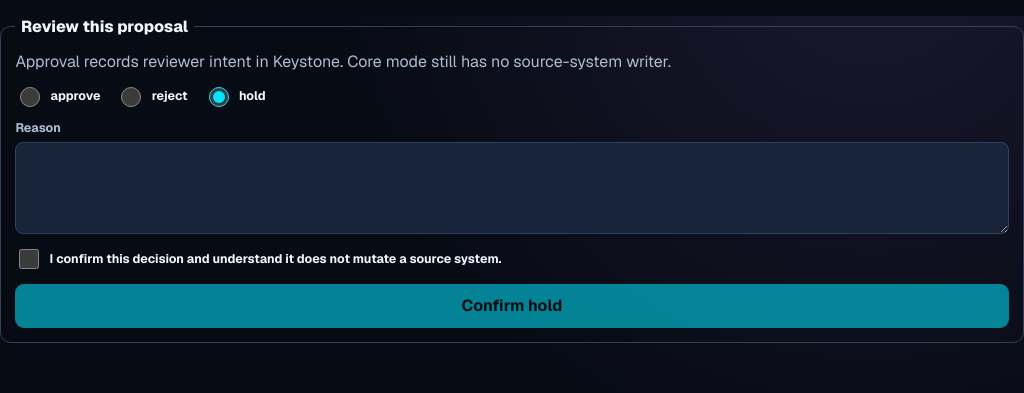
Test: pending proposal decision › shows a safe fallback for a non-Error rejection
Type "Evidence verified" into the text box labelled "Reason" at x=512, y=188, box x1=15 y1=142 x2=1009 y2=234
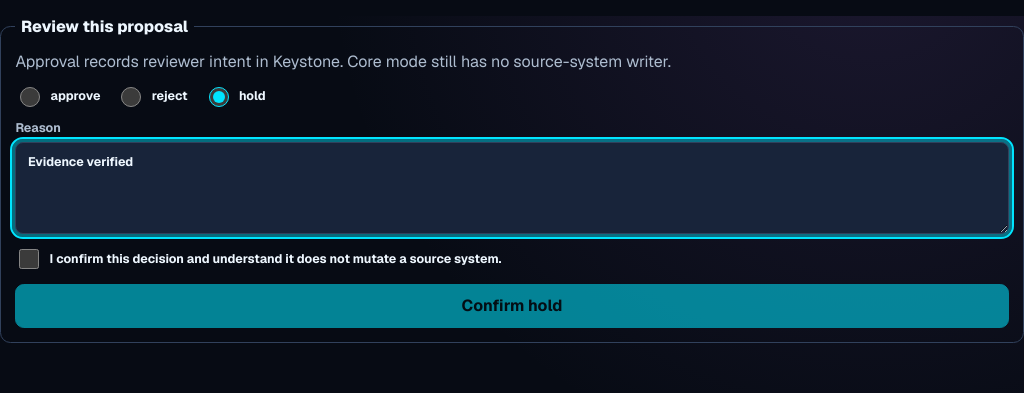
Click the checkbox labelled "I confirm" at x=29, y=259, box x1=19 y1=249 x2=39 y2=269
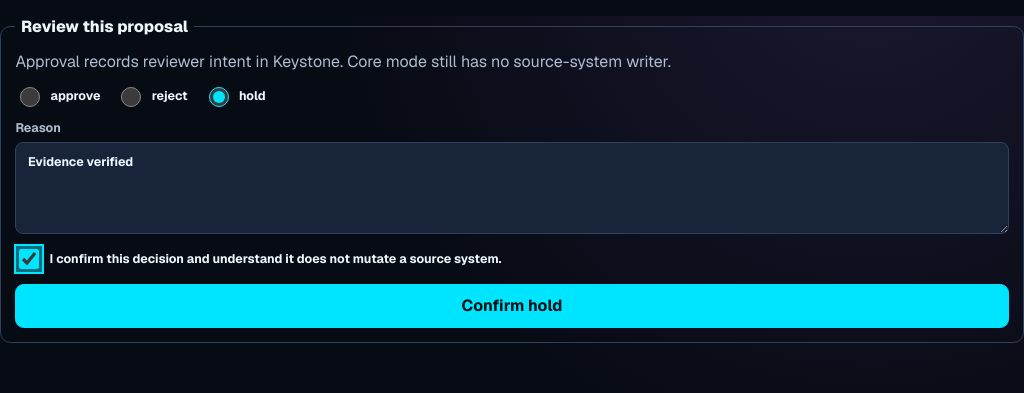
Click the button "Confirm hold" at x=512, y=306, box x1=15 y1=284 x2=1009 y2=328
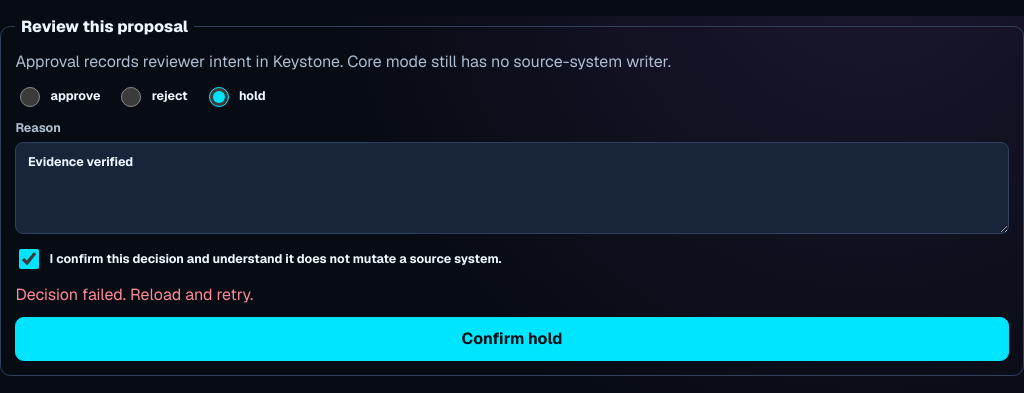
Expected: the message reads "Decision failed. Reload and retry.", x1=15 y1=284 x2=253 y2=305
